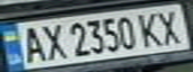0: (115, 12, 139, 51)
2: (63, 18, 87, 57)
3: (84, 17, 106, 55)
5: (100, 16, 124, 53)
A: (15, 24, 48, 64)
K: (133, 10, 166, 48)
X: (151, 7, 190, 46), (36, 20, 69, 61)
